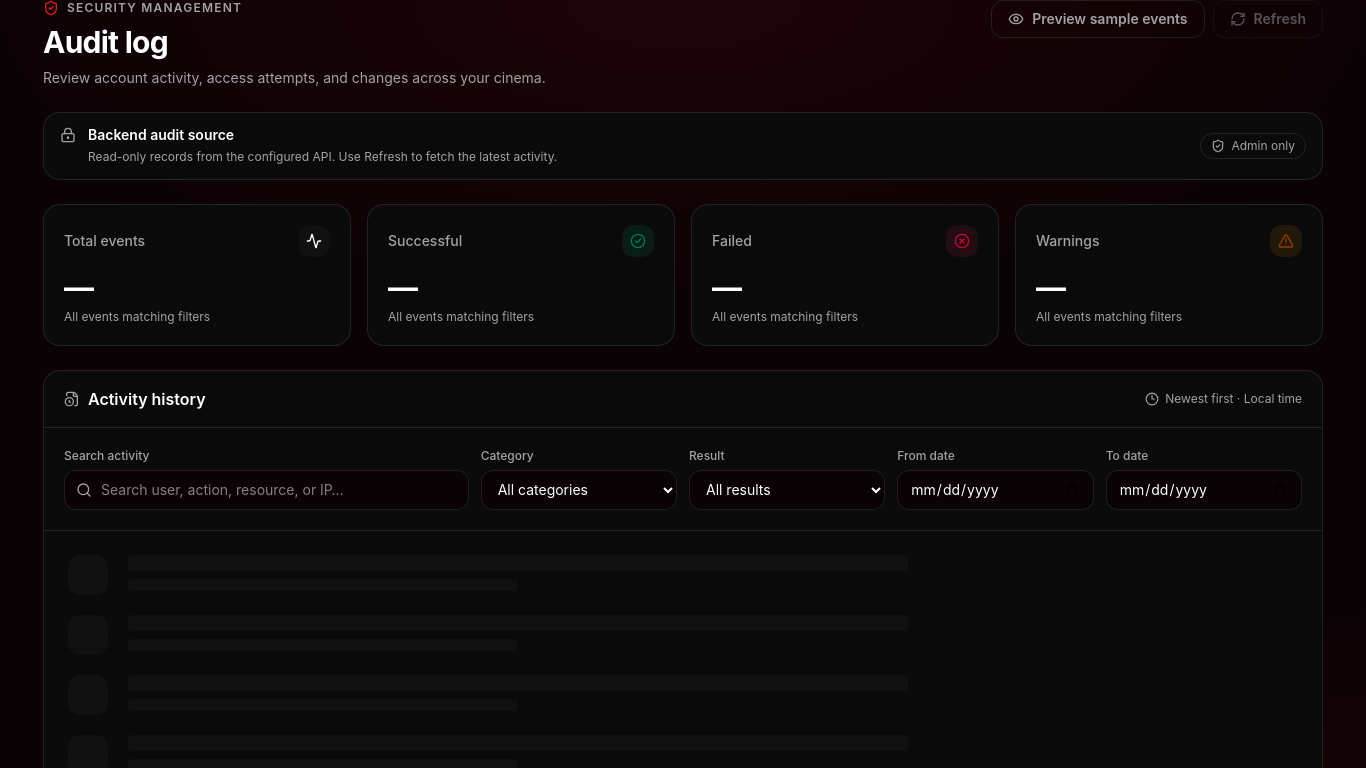
Audit Logs page › ignores an in-flight API response after switching to sample preview
Click the button "Preview sample events". click: (1098, 19)
box: [991,0,1204,38]
(page scrolled)
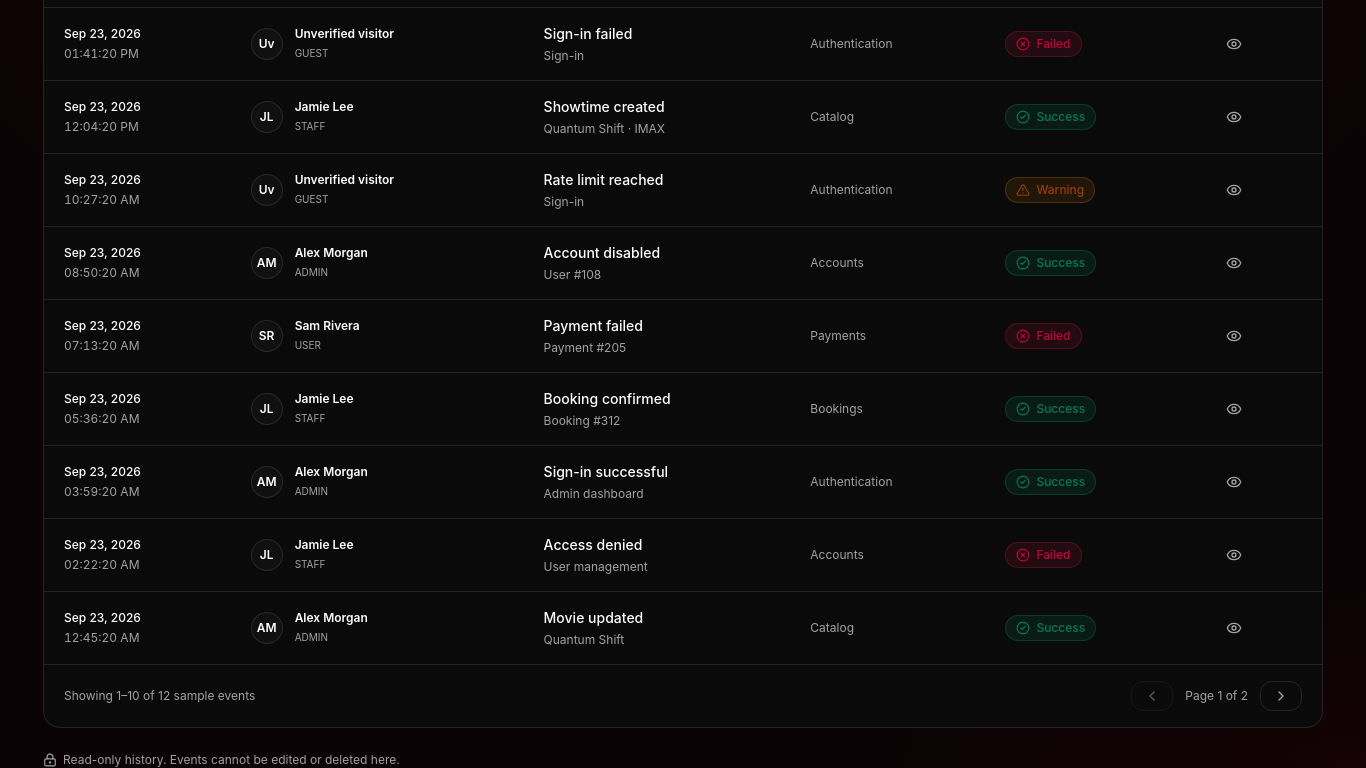
expect the text "Showing 1–10 of 12 sample events" is shown: met, box [64,688,255,704]
